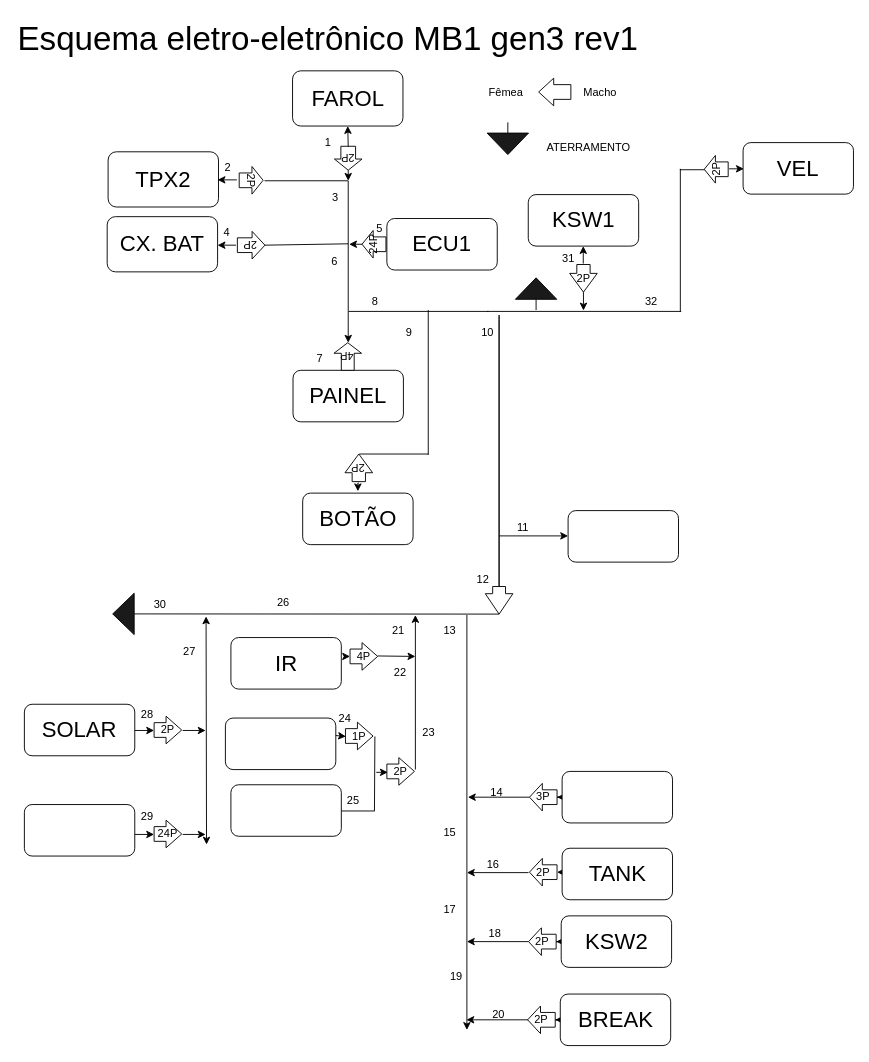
Image size: 869x1062. Some labels were removed from this diagram. Each missing label, with the centre of its shape:
"6P" goes at (x=498, y=600).
"BOB" goes at (x=285, y=810).
"ECU2" goes at (x=79, y=830).
"LOGGER" goes at (x=622, y=536).
"SERVO" goes at (x=617, y=796).
"THERM" goes at (x=280, y=743).
"XP" goes at (x=554, y=91).
